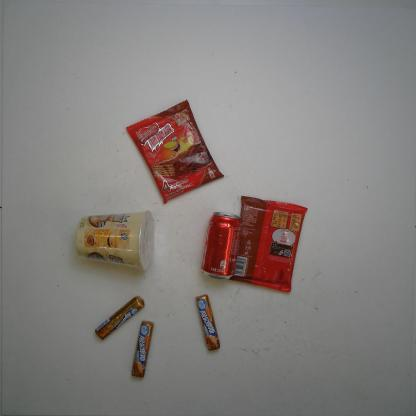Candy: (92, 292, 146, 342), (194, 291, 221, 353), (130, 318, 155, 379)
Dessert: (123, 96, 225, 206), (228, 193, 309, 294)
Drink: (199, 210, 243, 282)
Instant Noodles: (74, 207, 157, 272)
